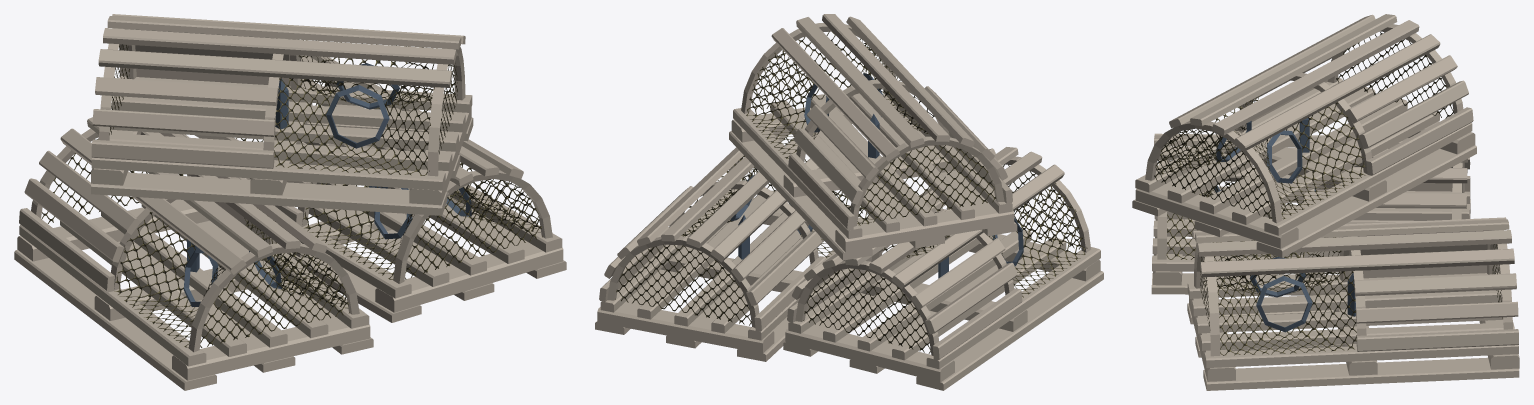
The model's file is lobsterPotGrp.glb.
3 views of the same model, side by side, from view 1: azimuth 30°, elevation 25°; view 2: azimuth 150°, elevation 25°; view 3: azimuth 270°, elevation 25° (orthographic). The views are drawn at different scales.
Visible parts, largest first — view 1: lobsterpotGrp; view 2: lobsterpotGrp; view 3: lobsterpotGrp.
Part boxes in pixels (bbox=[...]): lobsterpotGrp: bbox=[14, 14, 566, 390]; lobsterpotGrp: bbox=[595, 14, 1103, 390]; lobsterpotGrp: bbox=[1132, 14, 1519, 390].
Size of the model in its own units: 1.33 by 0.7742 by 1.22.
Materials: 1 (1 with a texture image).
